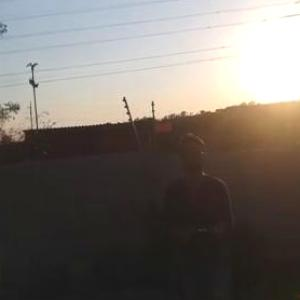follow: (153, 130, 240, 299)
